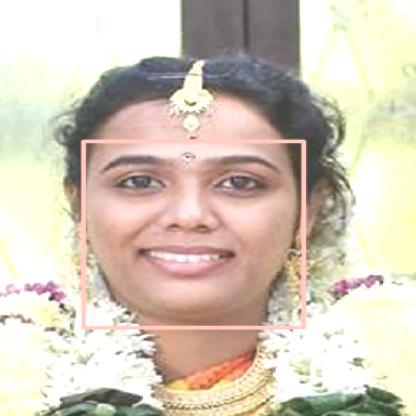without_mask: (83, 141, 303, 327)
